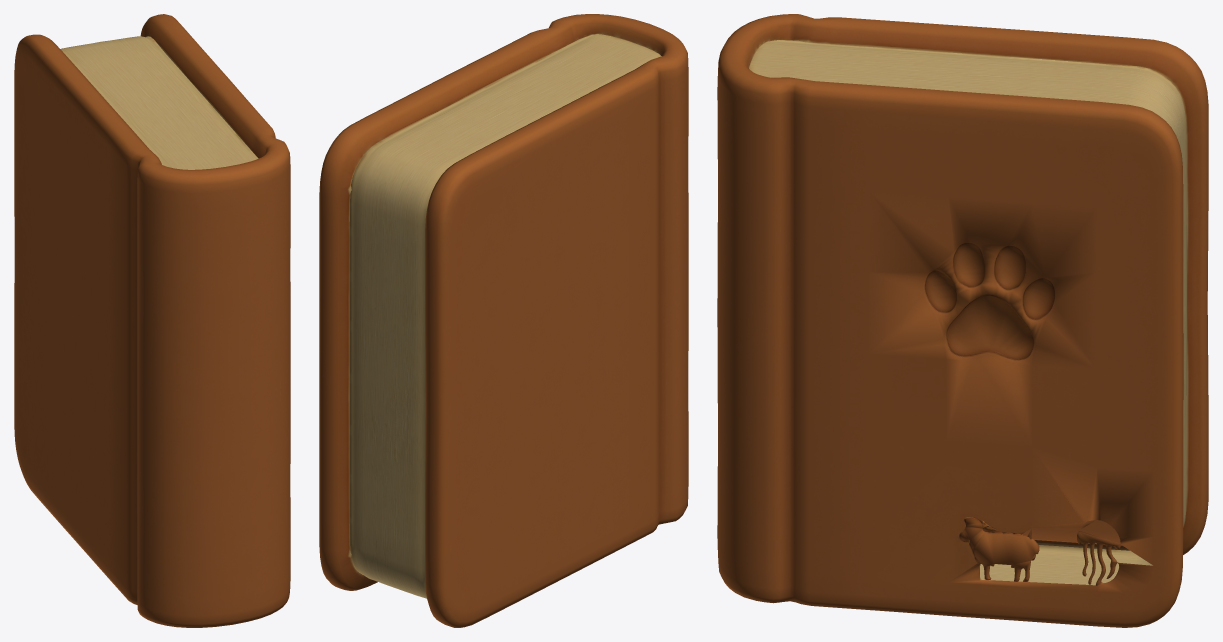
The model's file is guide-book.glb.
3 renders of one model, left to right at view 1: azimuth 30°, elevation 25°; view 2: azimuth 150°, elevation 25°; view 3: azimuth 270°, elevation 25°, orthographic. The views are drawn at different scales.
Visible parts, largest first — view 1: tripo_node_04d52af2-7008-446d-b11c-2d7262ca31f4; view 2: tripo_node_04d52af2-7008-446d-b11c-2d7262ca31f4; view 3: tripo_node_04d52af2-7008-446d-b11c-2d7262ca31f4.
Boxes of the visible parts, box(x1,y1,x2,y2) form: tripo_node_04d52af2-7008-446d-b11c-2d7262ca31f4: box(14, 14, 290, 627); tripo_node_04d52af2-7008-446d-b11c-2d7262ca31f4: box(319, 14, 688, 627); tripo_node_04d52af2-7008-446d-b11c-2d7262ca31f4: box(717, 14, 1208, 627).
Bounding box in the file's own units: 0.4338 × 0.9995 × 0.855.
Materials: 1 (1 with a texture image).
